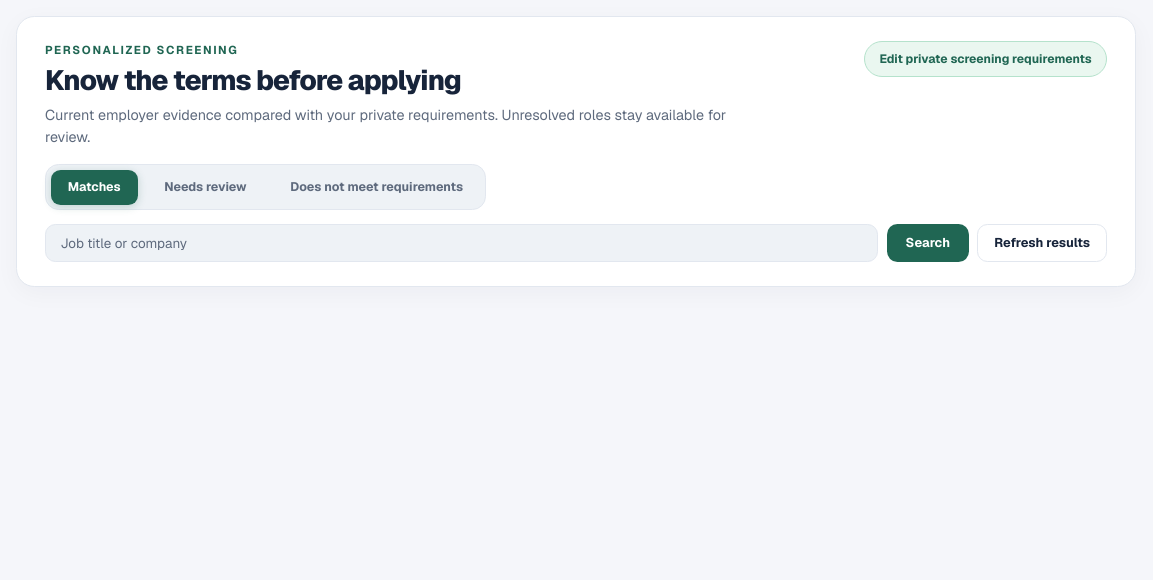
Test: Private screening › ignores stale bucket responses
Step 1. Click the button "Needs review" → (205, 188), box [147,170,264,205]
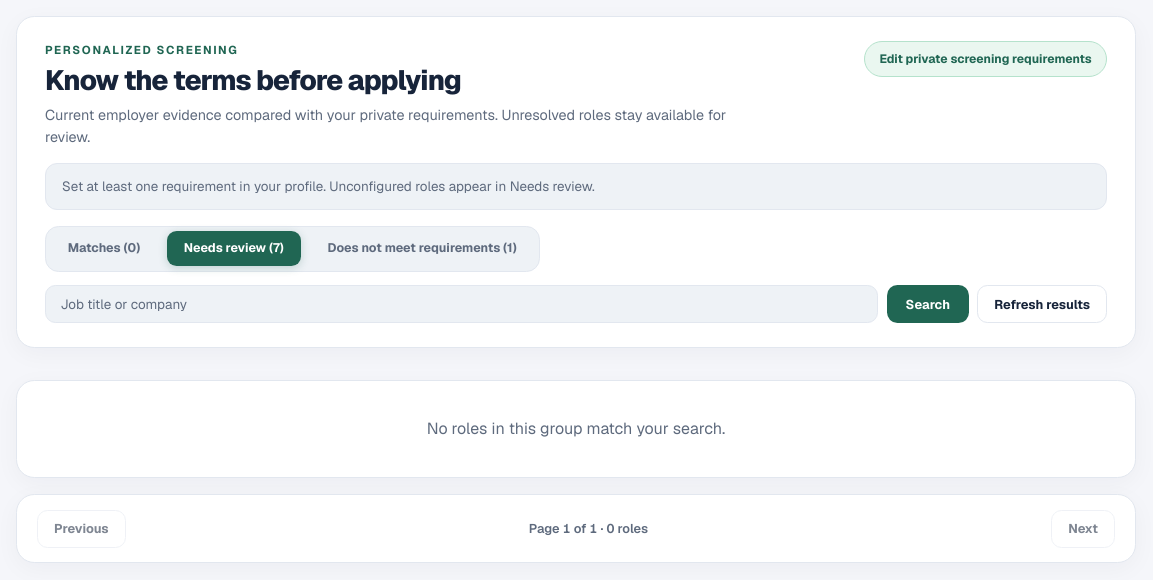
expect the button "Needs review (7)" is shown: met, box [167,232,301,266]
